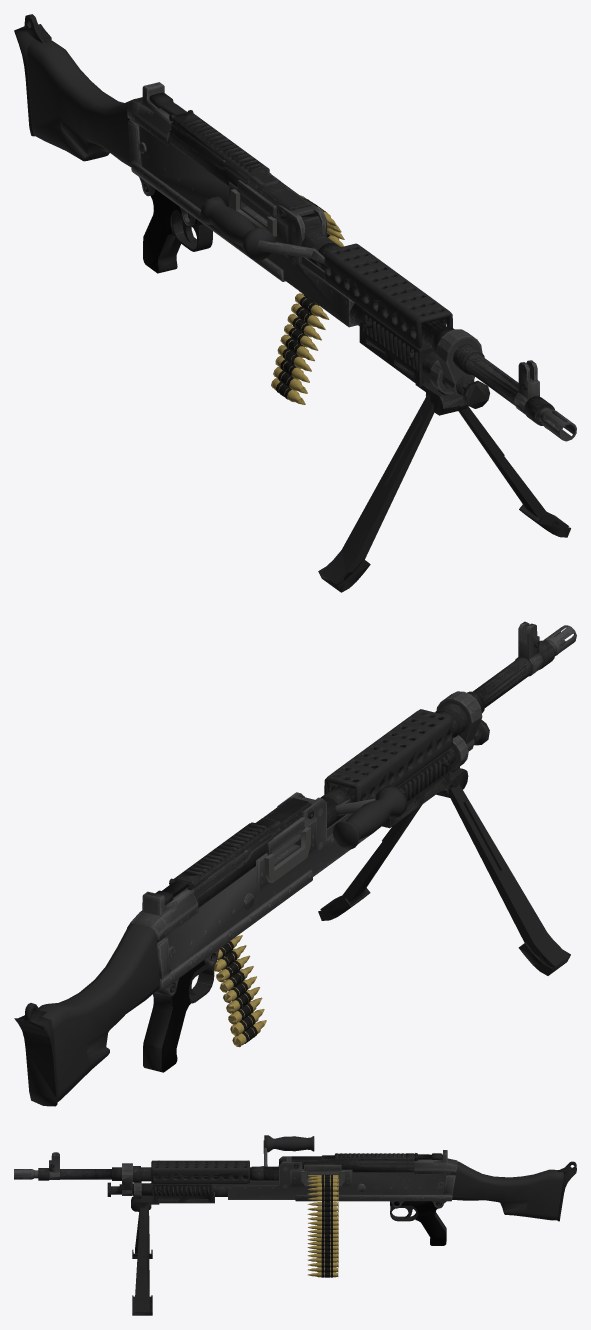
The picture shows the model from 3 angles, top to bottom: view 1: azimuth 30°, elevation 25°; view 2: azimuth 150°, elevation 25°; view 3: azimuth 270°, elevation 25°; orthographic projection. The views are drawn at different scales.
Parts seen in each view (by area): view 1: body; view 2: body; view 3: body.
Part boxes in pixels (bbox=[...]): body: bbox=[14, 14, 576, 592]; body: bbox=[14, 621, 576, 1106]; body: bbox=[14, 1135, 576, 1315].
Size of the model in its own units: 0.2581 by 0.2724 by 1.03.
Materials: 2 (2 with a texture image).
